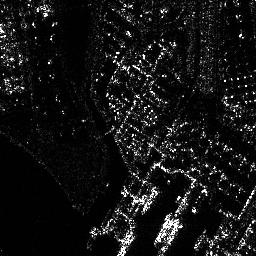ship: (154, 213, 174, 243), (139, 187, 159, 213), (115, 234, 134, 256), (194, 229, 206, 251)
